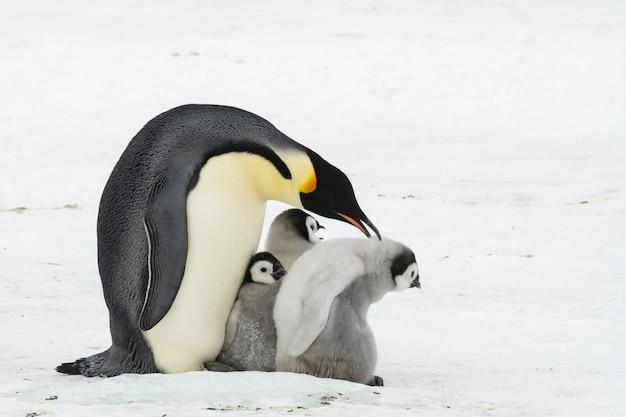emporer: (60, 93, 396, 392)
